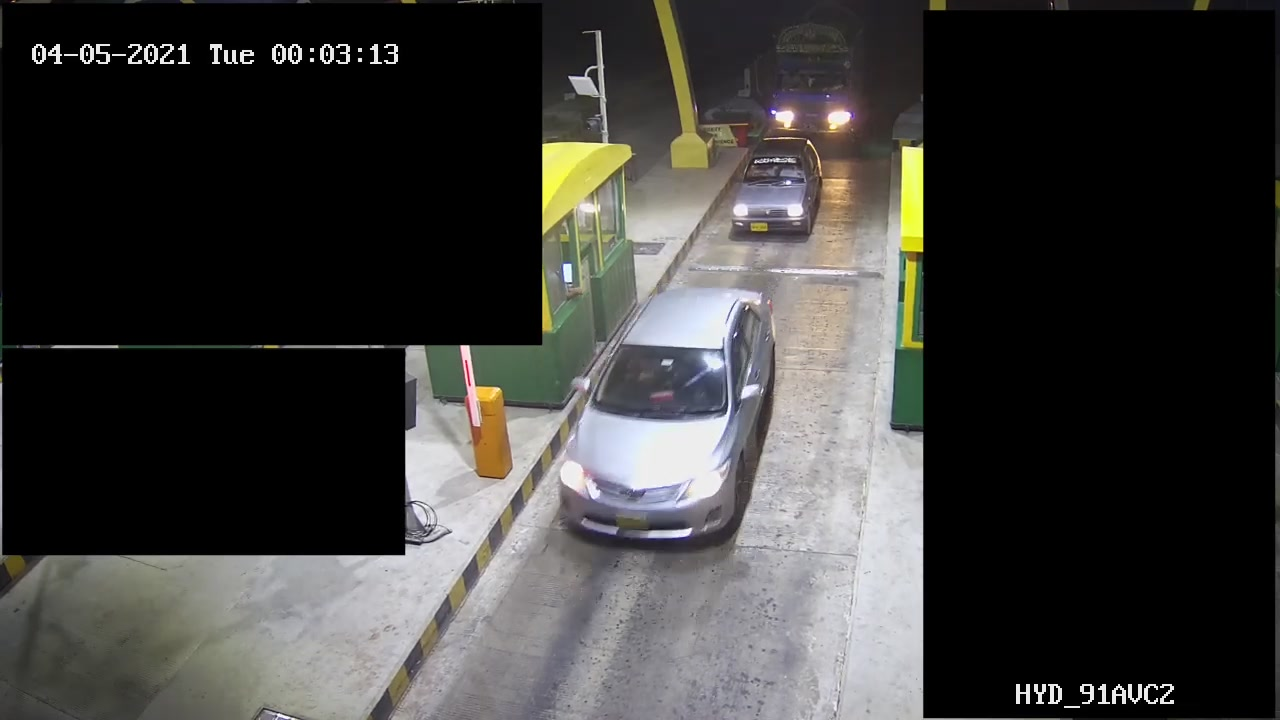F1: (550, 283, 784, 547), (723, 133, 824, 245)
